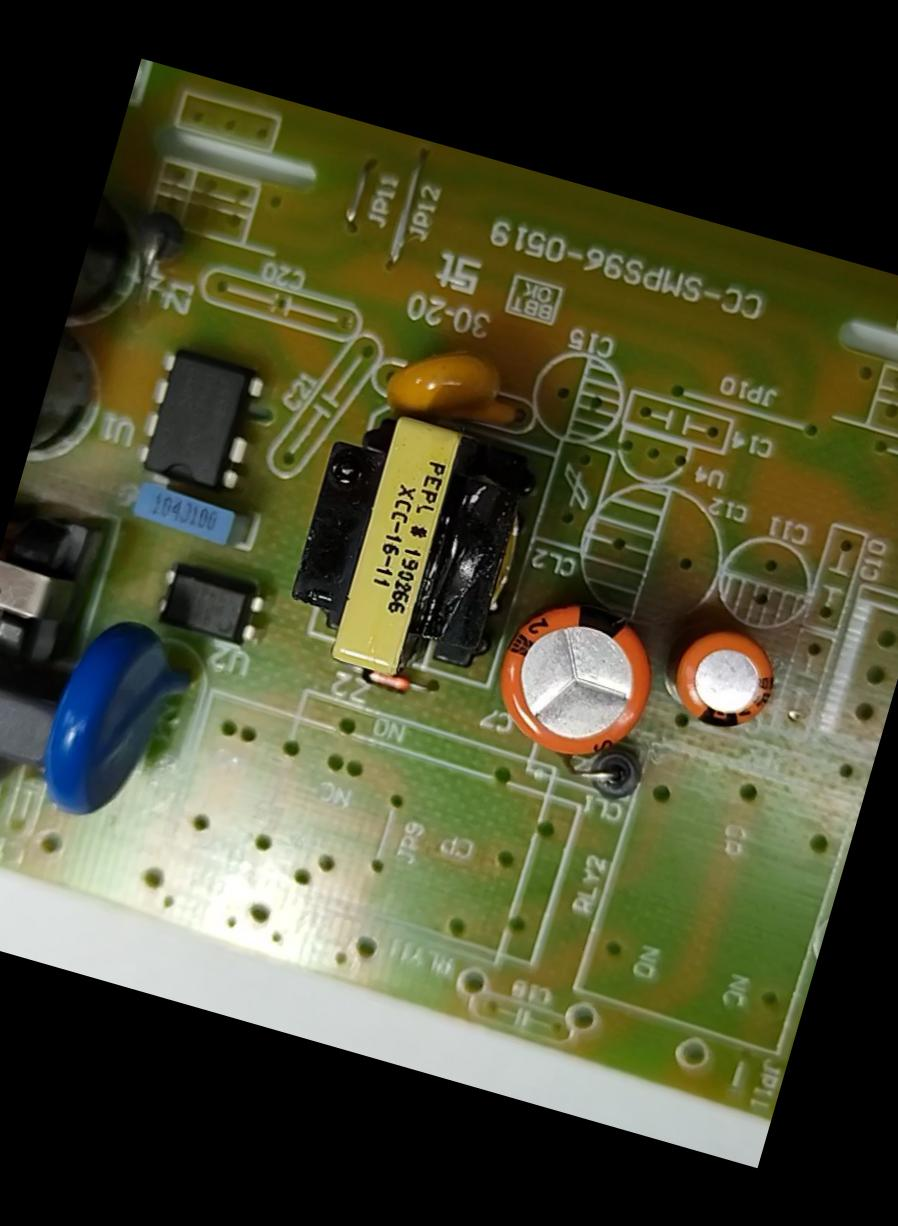Cap1: (469, 576, 678, 774)
Cap2: (652, 605, 800, 748)
Cap3: (20, 328, 122, 498)
Cap4: (61, 180, 169, 354)
MOSFET: (122, 332, 285, 508)
Mov: (19, 594, 222, 846)
Resistor: (0, 732, 24, 845)
Transformer: (263, 385, 571, 713), (0, 480, 130, 689)
